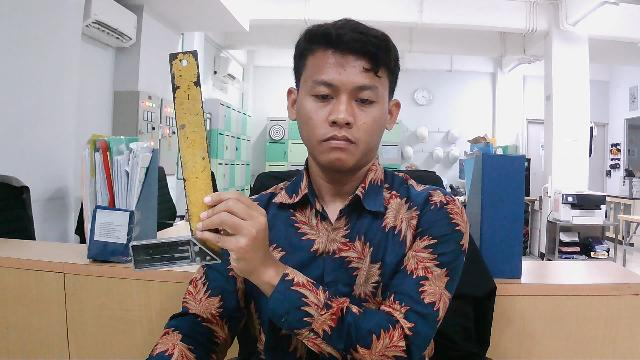penggaris_siku: (117, 45, 242, 276)
